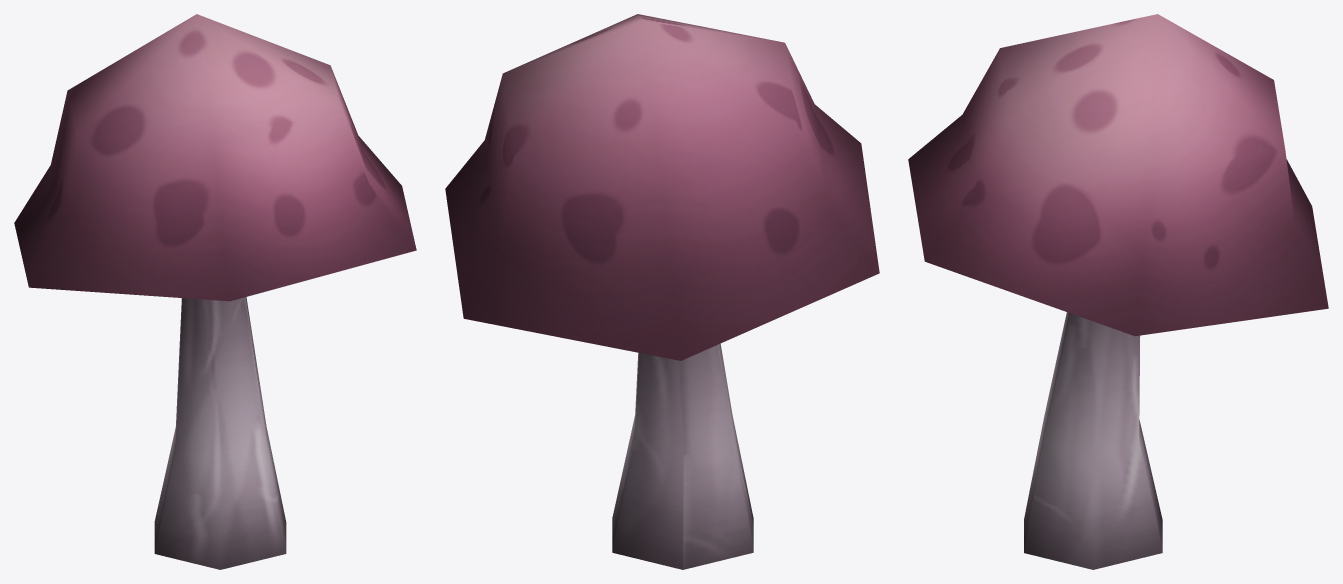
File: fungus_04.fbx
3 views of the same model, side by side, from view 1: azimuth 30°, elevation 25°; view 2: azimuth 150°, elevation 25°; view 3: azimuth 270°, elevation 25° (orthographic). The views are drawn at different scales.
Visible parts, largest first — view 1: fungus_04; view 2: fungus_04; view 3: fungus_04.
Boxes of the visible parts, <box> form: fungus_04: <box>14,14,416,569</box>; fungus_04: <box>445,14,879,569</box>; fungus_04: <box>908,14,1328,569</box>.
Bounding box in the file's own units: 2.17 × 2.67 × 1.94.
